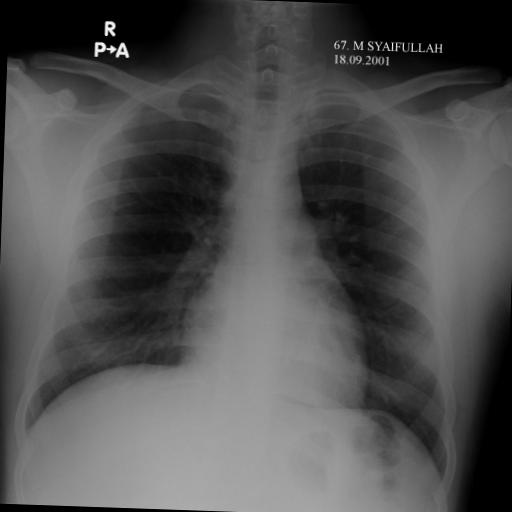normal: (12, 38, 466, 489)
